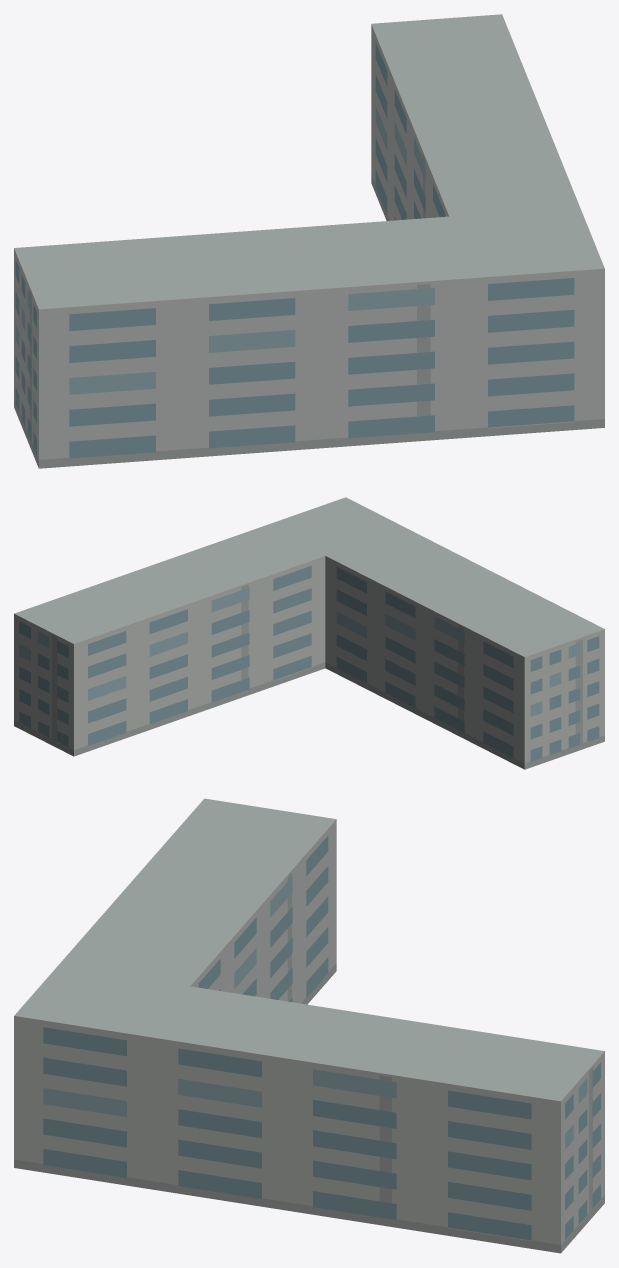
Rendered from residential-0a89ffcd-f71a-4bdc-b4ff-ecfe4c77db0d.glb.
The picture shows the model from 3 angles, top to bottom: view 1: azimuth 30°, elevation 25°; view 2: azimuth 150°, elevation 25°; view 3: azimuth 270°, elevation 25°; orthographic projection. The views are drawn at different scales.
Visible parts, largest first — view 1: residential-0a89ffcd-f71a-4bdc-b4ff-ecfe4c77db0d.tmp; view 2: residential-0a89ffcd-f71a-4bdc-b4ff-ecfe4c77db0d.tmp; view 3: residential-0a89ffcd-f71a-4bdc-b4ff-ecfe4c77db0d.tmp.
Boxes of the visible parts, x1,y1,x2,y2 form: residential-0a89ffcd-f71a-4bdc-b4ff-ecfe4c77db0d.tmp: (14, 14, 604, 468); residential-0a89ffcd-f71a-4bdc-b4ff-ecfe4c77db0d.tmp: (14, 497, 604, 769); residential-0a89ffcd-f71a-4bdc-b4ff-ecfe4c77db0d.tmp: (14, 798, 604, 1253).
Size of the model in its own units: 65.15 by 15.25 by 53.71.
